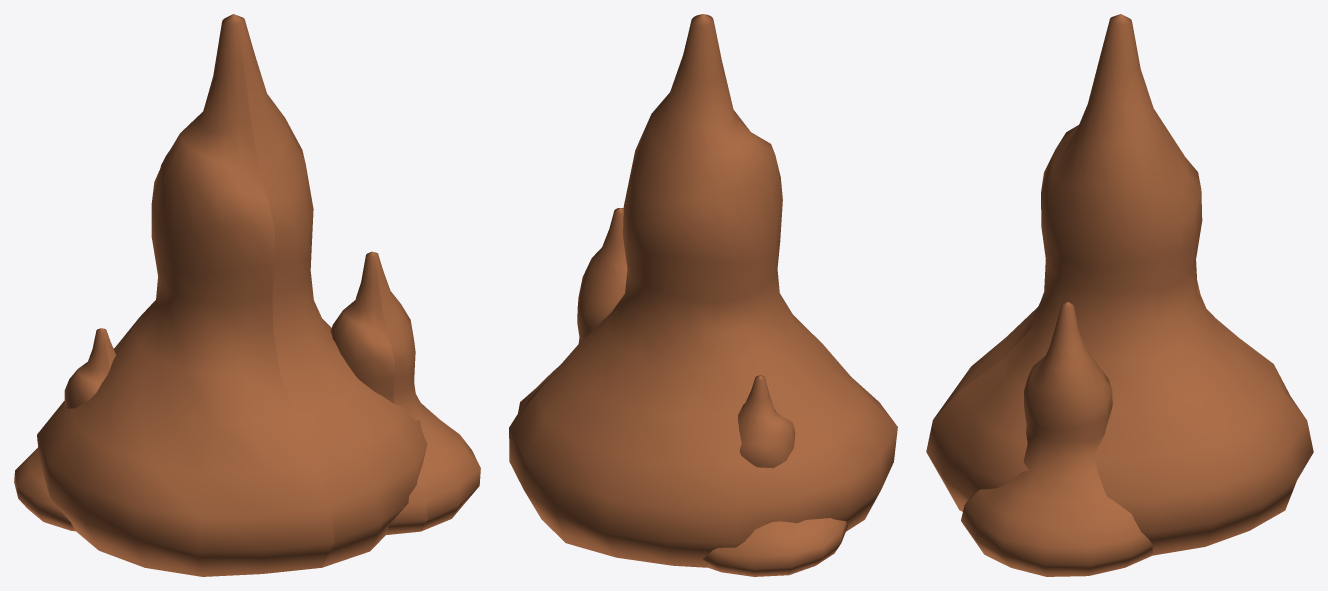
File: termite_mound.glb
3 views of the same model, side by side, from view 1: azimuth 30°, elevation 25°; view 2: azimuth 150°, elevation 25°; view 3: azimuth 270°, elevation 25° (orthographic). The views are drawn at different scales.
Visible parts, largest first — view 1: Termite mound; view 2: Termite mound; view 3: Termite mound.
Part boxes in pixels (x1,y1,x2,y2): Termite mound: [14, 14, 480, 576]; Termite mound: [509, 14, 897, 576]; Termite mound: [926, 14, 1313, 576].
Bounding box in the file's own units: 2.35 × 2.94 × 2.19.
